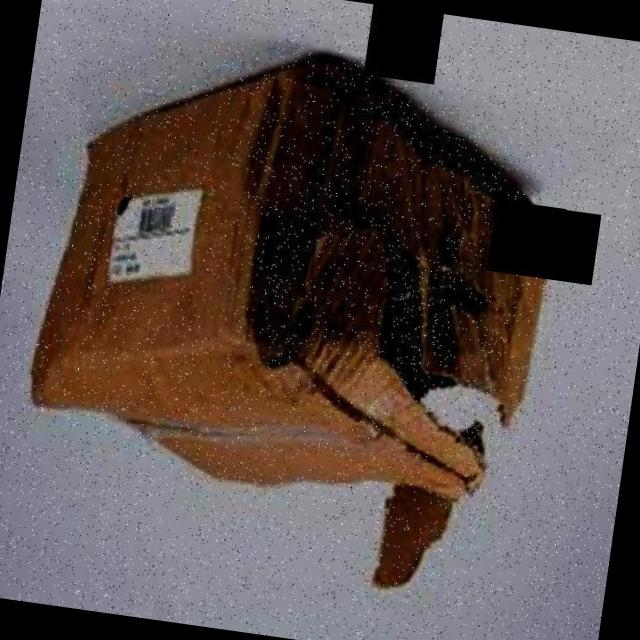box: (1, 24, 582, 605)
